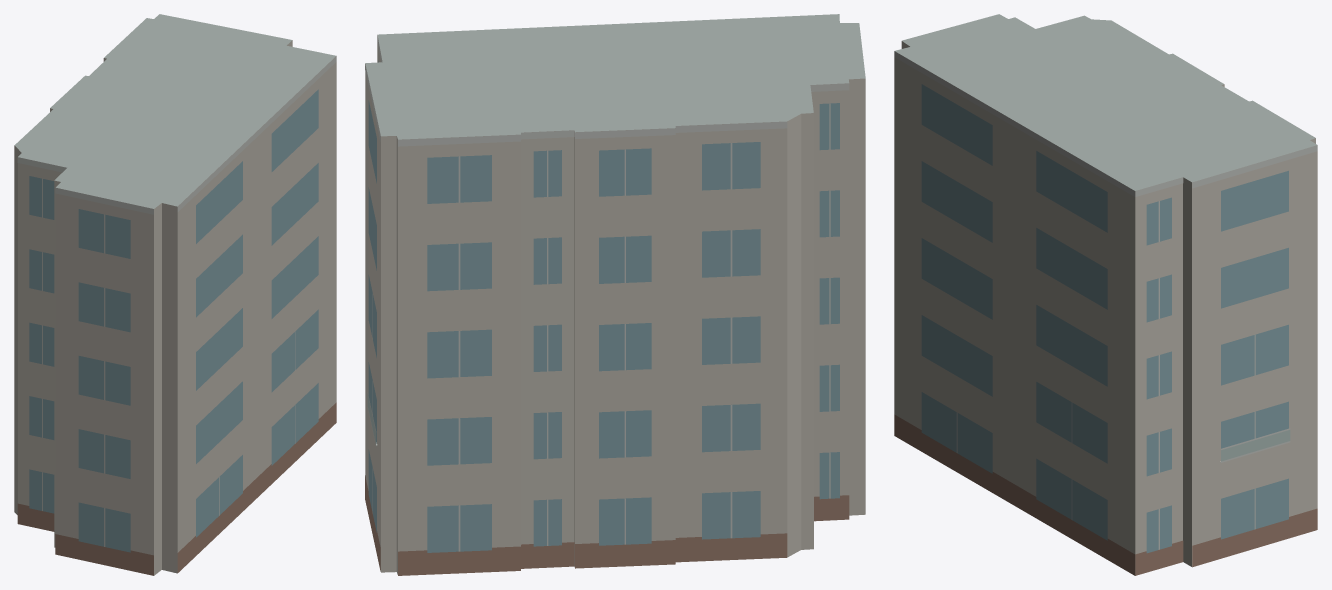
Rendered from survey-upis-32669357.glb.
3 renders of one model, left to right at view 1: azimuth 30°, elevation 25°; view 2: azimuth 150°, elevation 25°; view 3: azimuth 270°, elevation 25°, orthographic. The views are drawn at different scales.
Parts seen in each view (by area): view 1: survey-upis-32669357.tmp; view 2: survey-upis-32669357.tmp; view 3: survey-upis-32669357.tmp.
Boxes of the visible parts, box(x1,y1,x2,y2) form: survey-upis-32669357.tmp: box(14, 14, 336, 575); survey-upis-32669357.tmp: box(365, 14, 865, 575); survey-upis-32669357.tmp: box(894, 14, 1317, 575).
Bounding box in the file's own units: 15.15 × 15.35 × 15.31.
